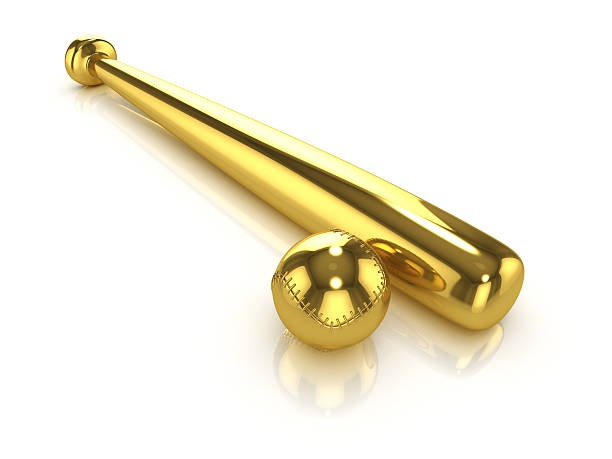bita: (63, 42, 525, 333)
